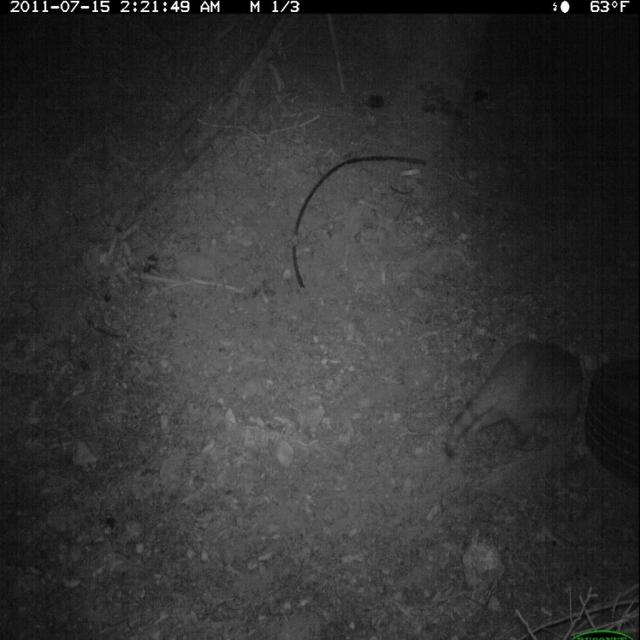raccoon: (440, 328, 601, 473)
